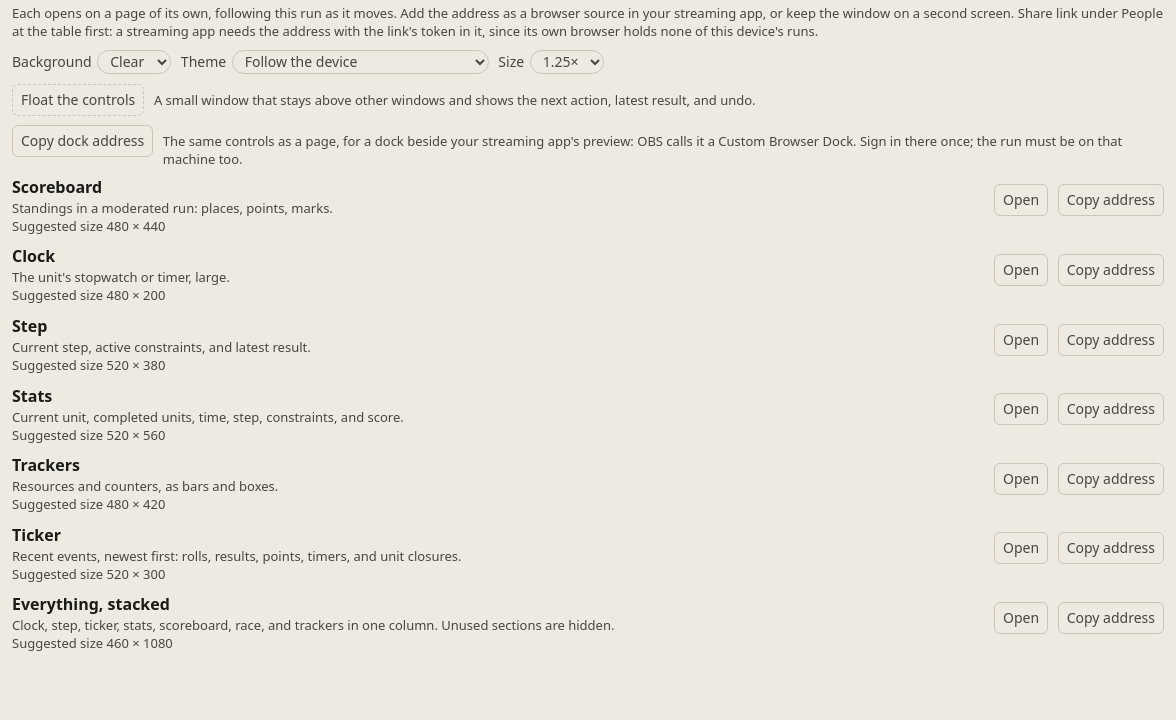
Test case: following this device from anywhere › says {"kind":"not-published"} in plain words
Select "Follow this device from anywhere" in the dropdown named "Widget theme": (360, 62) [232, 50, 489, 74]
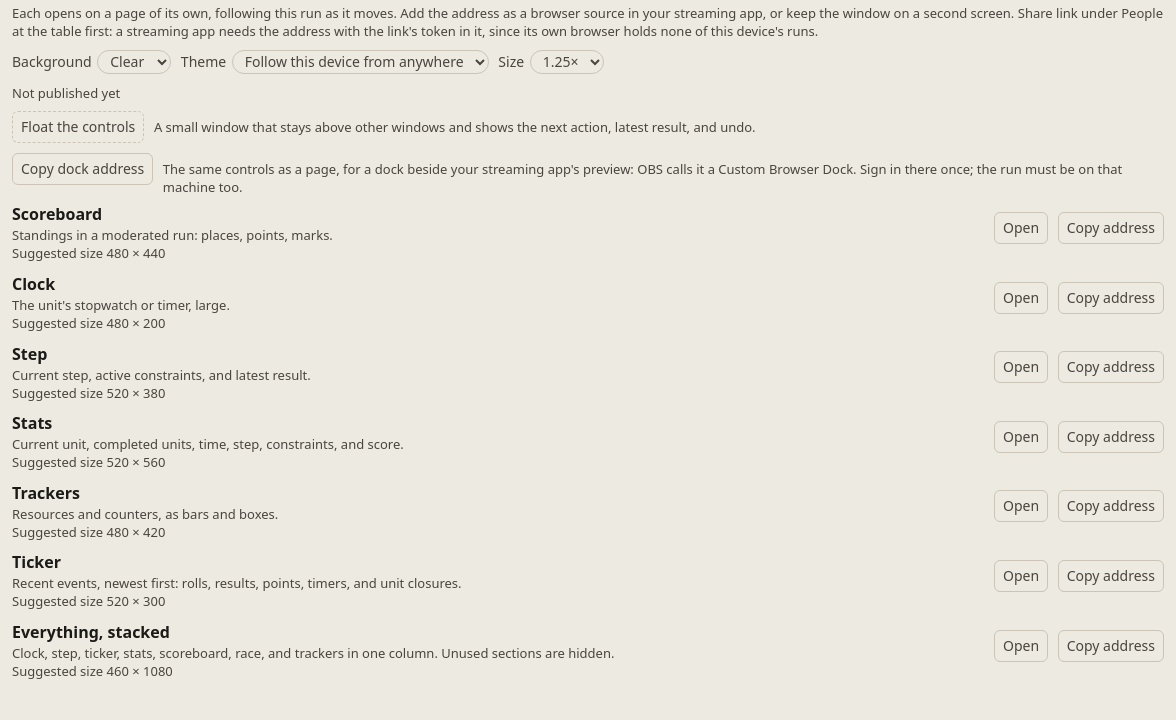
Check: the text "Not published yet" is shown, box [12, 84, 120, 102]
